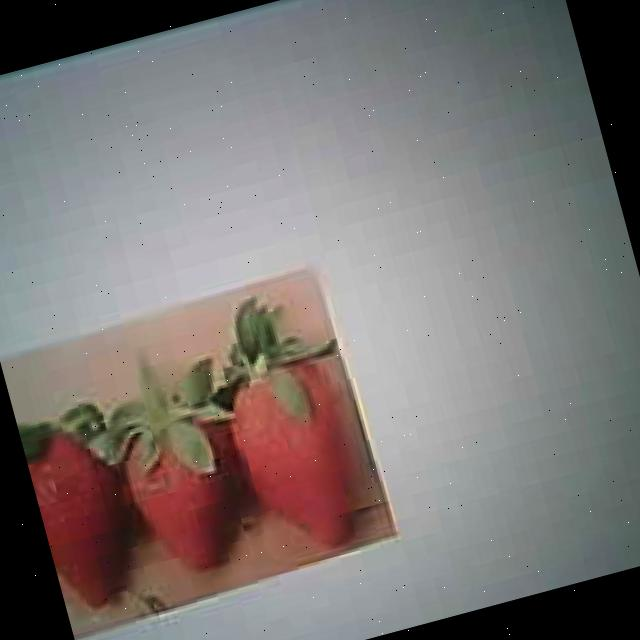strawberry: (218, 350, 368, 560), (20, 418, 143, 612), (114, 397, 243, 577)
